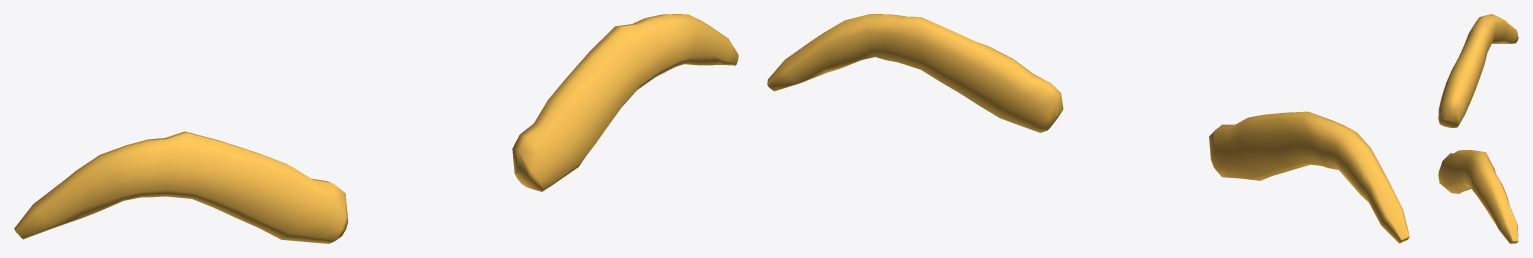
The model's file is Eyebrows_19_05.fbx.
3 views of the same model, side by side, from view 1: azimuth 30°, elevation 25°; view 2: azimuth 150°, elevation 25°; view 3: azimuth 270°, elevation 25° (orthographic). The views are drawn at different scales.
Visible parts, largest first — view 1: Eyebrows_19_05; view 2: Eyebrows_19_05; view 3: Eyebrows_19_05.
Part boxes in pixels (x1,y1,x2,y2): Eyebrows_19_05: (14, 14, 738, 243); Eyebrows_19_05: (767, 14, 1409, 243); Eyebrows_19_05: (1438, 14, 1518, 243).
Size of the model in its own units: 18.29 by 2.86 by 3.02.
